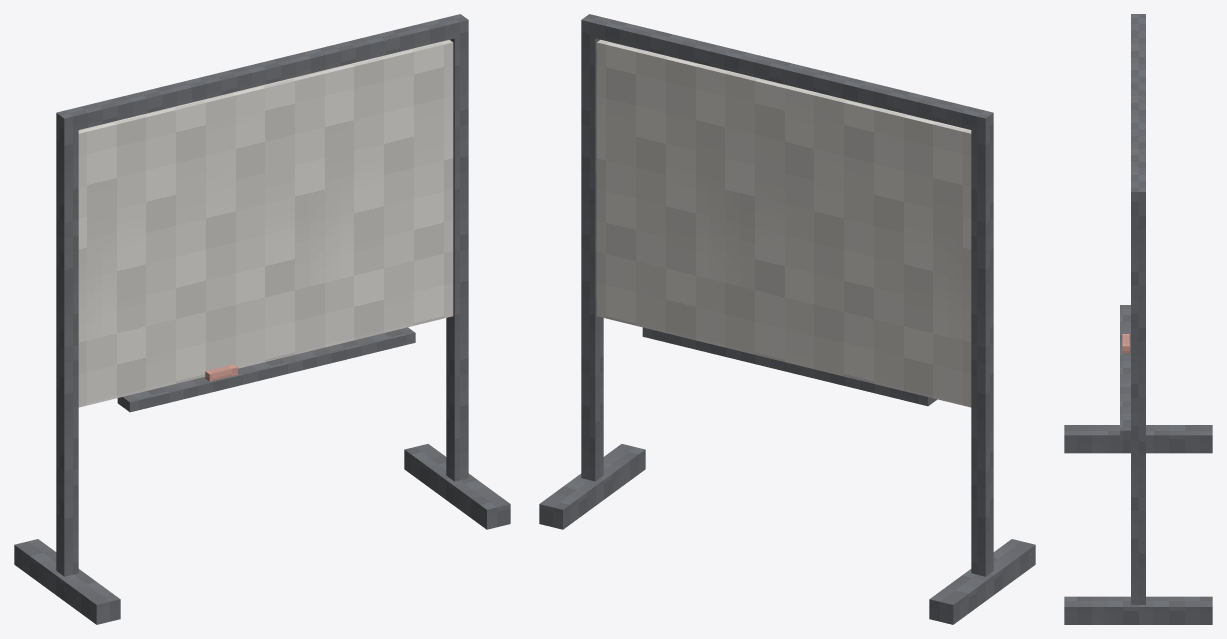
The model's file is pixel-modern-office-whiteboard-mobile-56f60630.glb.
3 views of the same model, side by side, from view 1: azimuth 30°, elevation 25°; view 2: azimuth 150°, elevation 25°; view 3: azimuth 270°, elevation 25° (orthographic). The views are drawn at different scales.
Visible parts, largest first — view 1: whiteboard-mobile; view 2: whiteboard-mobile; view 3: whiteboard-mobile.
Part boxes in pixels (x1,y1,x2,y2): whiteboard-mobile: (14,14,510,624); whiteboard-mobile: (539,14,1035,624); whiteboard-mobile: (1064,14,1212,624).
Size of the model in its own units: 1.74 by 1.92 by 0.6001.
3 materials, 3 textured.
